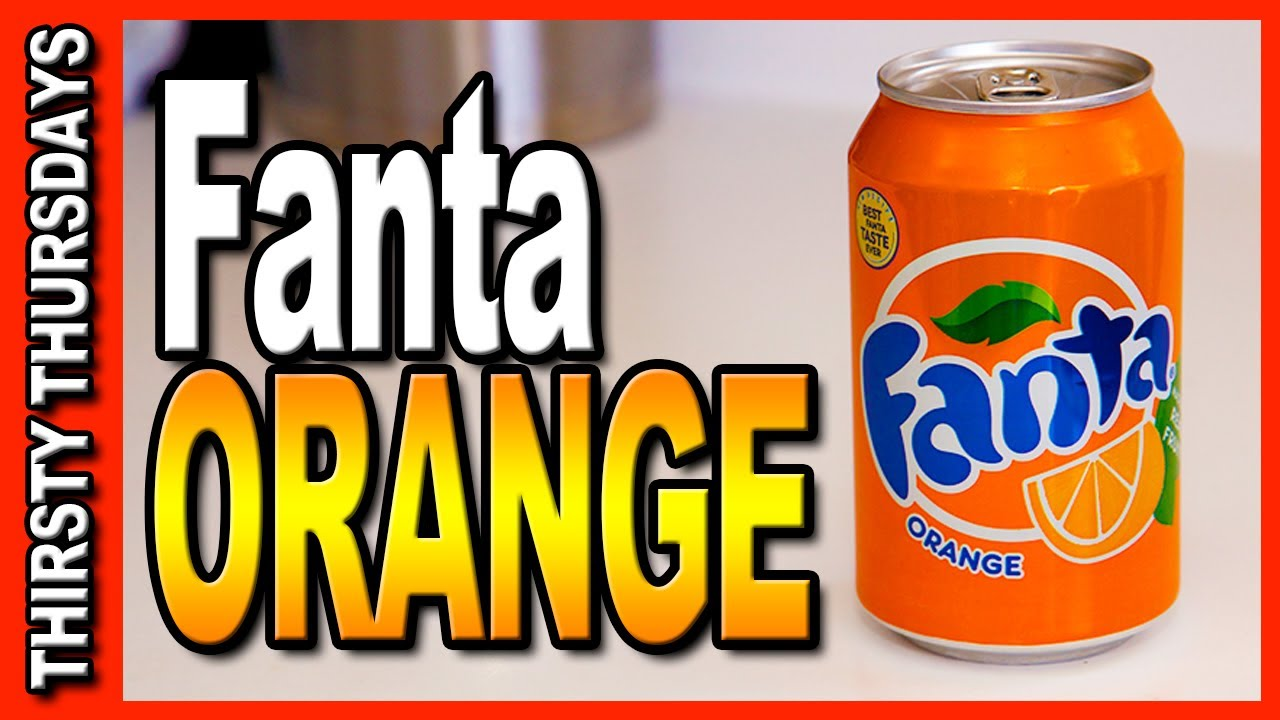Fanta: (836, 47, 1175, 661)
